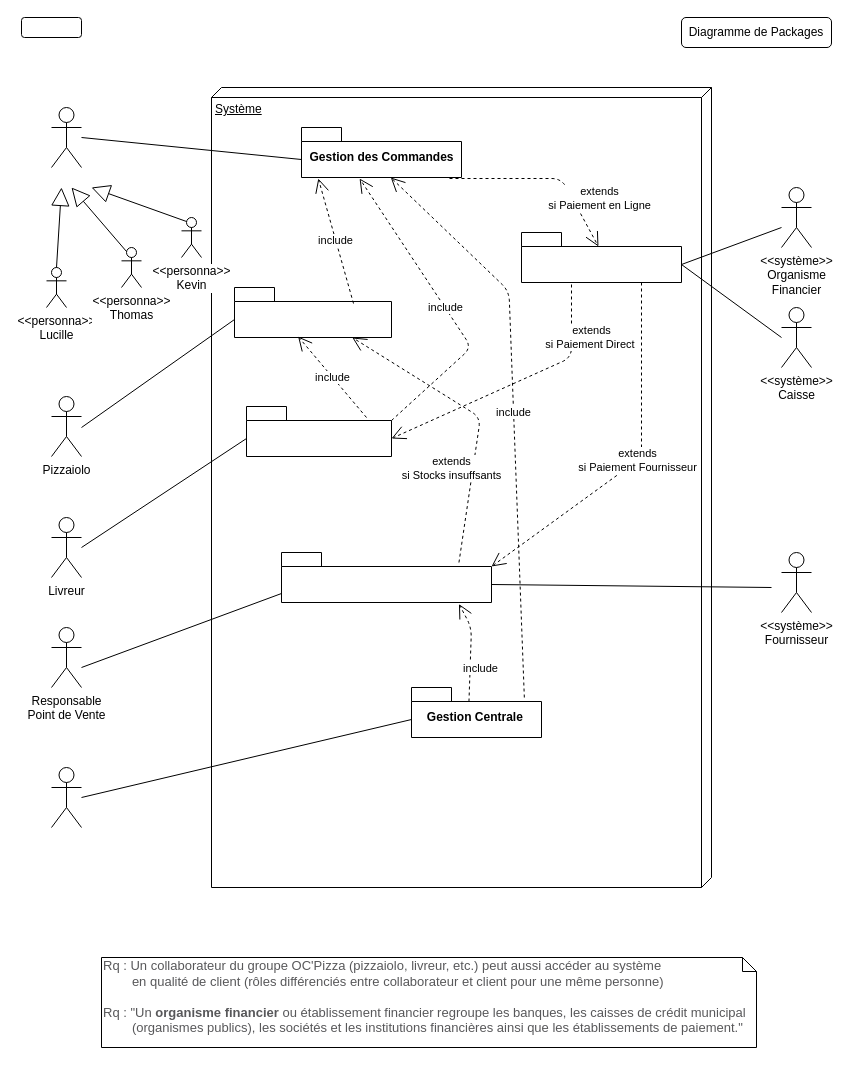
The diagram is 850 pixels wide and 1065 high, and some of its shapes have lost their labels. The centre of each missing label's shape, as x and y in pixels:
"Client" belongs at (x=66, y=137).
"Direction Groupe" belongs at (x=66, y=797).
"Gestion des Approvisionnements" belongs at (x=386, y=577).
"Gestion des Livraisons" belongs at (x=319, y=431).
"Gestion des Préparations" belongs at (x=313, y=312).
"Gestion des Règlements" belongs at (x=601, y=257).
"OC'Pizza" belongs at (x=51, y=27).
